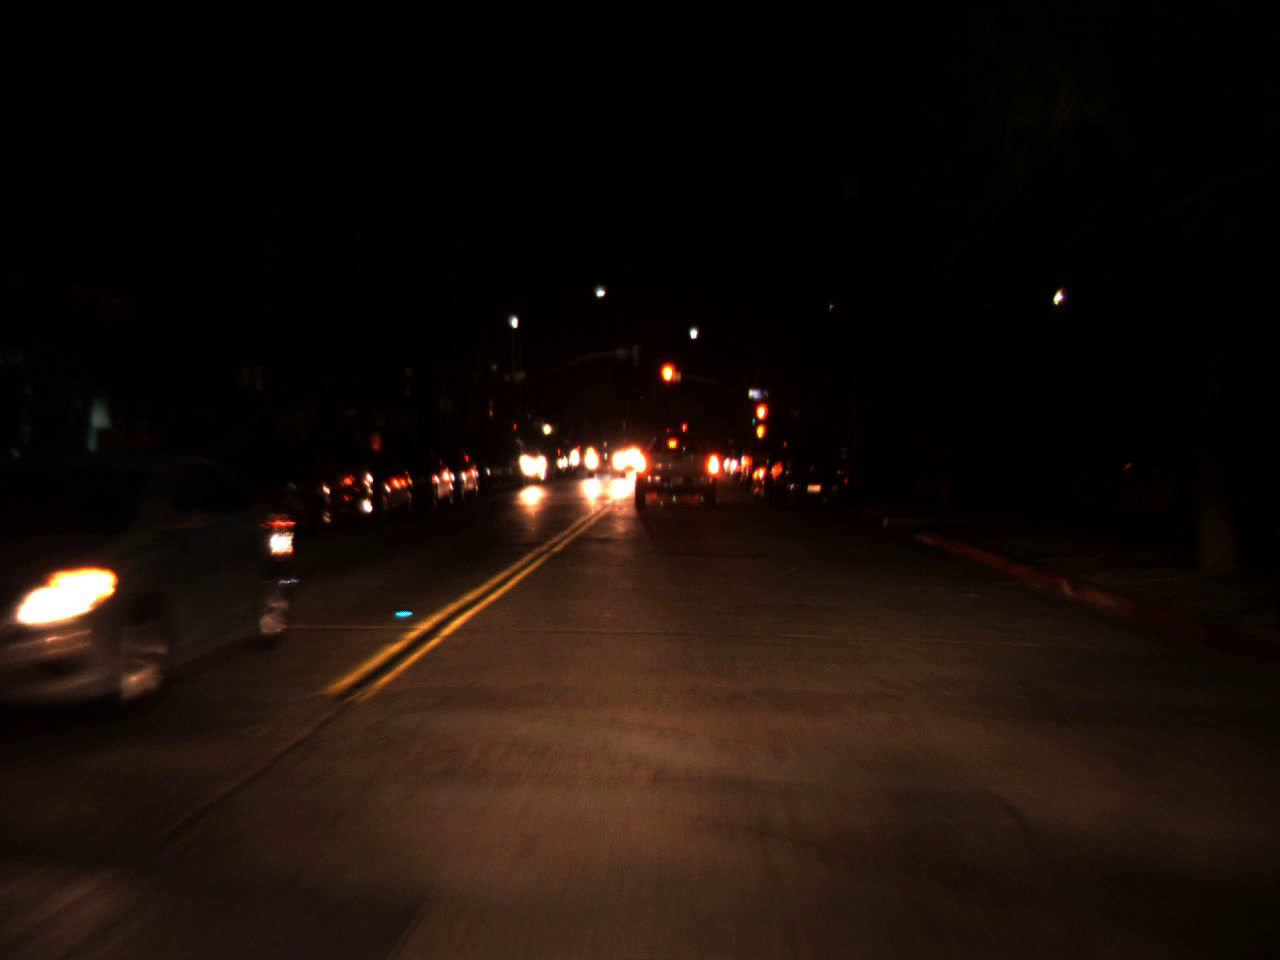stop: (658, 359, 679, 407), (753, 400, 771, 443)
